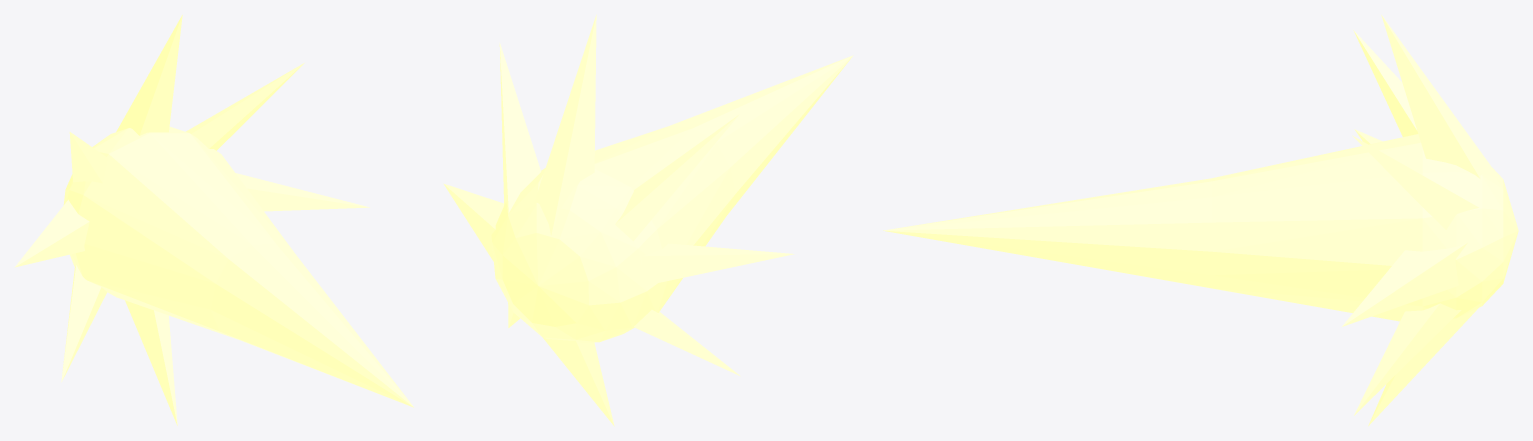
The model's file is mazzle_flash.old.glb.
3 renders of one model, left to right at view 1: azimuth 30°, elevation 25°; view 2: azimuth 150°, elevation 25°; view 3: azimuth 270°, elevation 25°, orthographic. The views are drawn at different scales.
Visible parts, largest first — view 1: wrapper.004; view 2: wrapper.004; view 3: wrapper.004.
Boxes of the visible parts, x1=… form: wrapper.004: x1=14, y1=15, x2=414, y2=425; wrapper.004: x1=443, y1=14, x2=853, y2=426; wrapper.004: x1=883, y1=15, x2=1518, y2=426.
Size of the model in its own units: 0.0912 by 0.1009 by 0.139.
